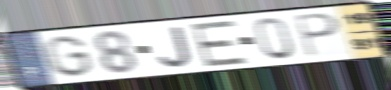0: (254, 17, 296, 61)
8: (92, 29, 139, 76)
E: (189, 18, 250, 68)
G: (41, 34, 97, 79)
J: (157, 24, 195, 69)
P: (292, 12, 342, 59)
